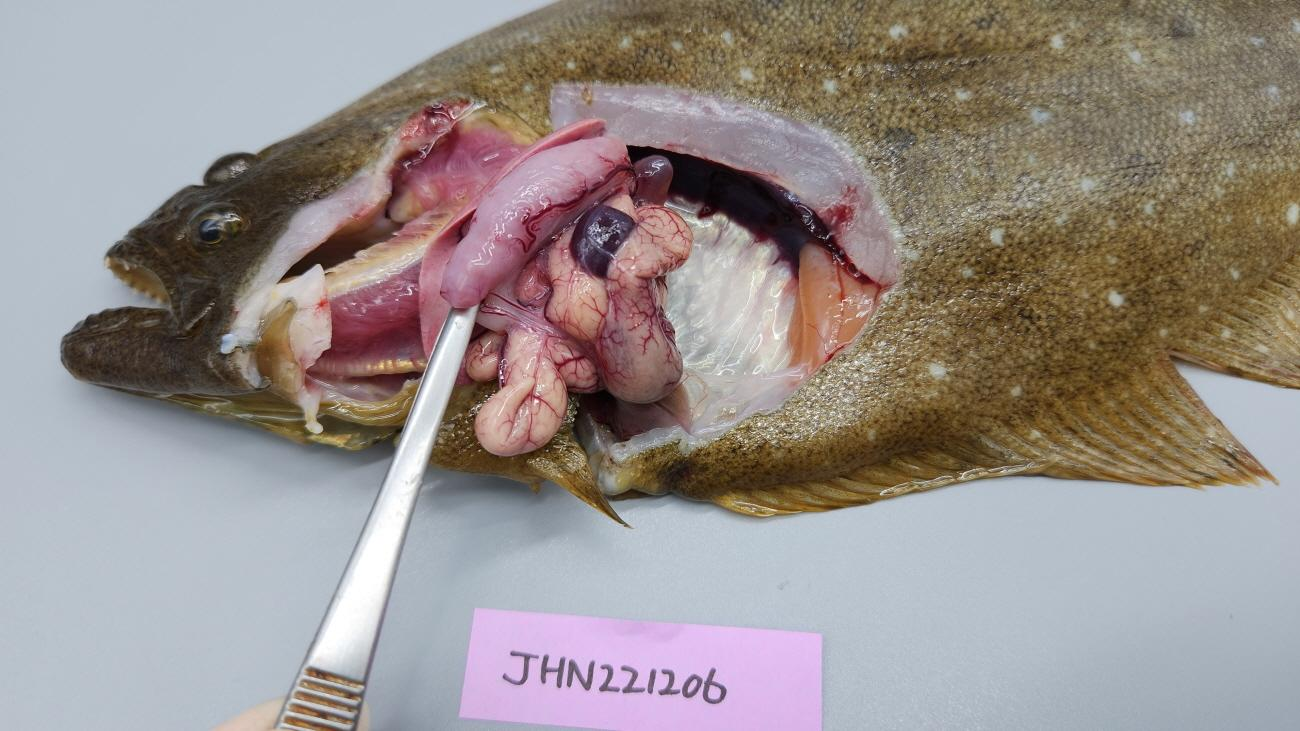POSPN: (569, 204, 635, 278)
